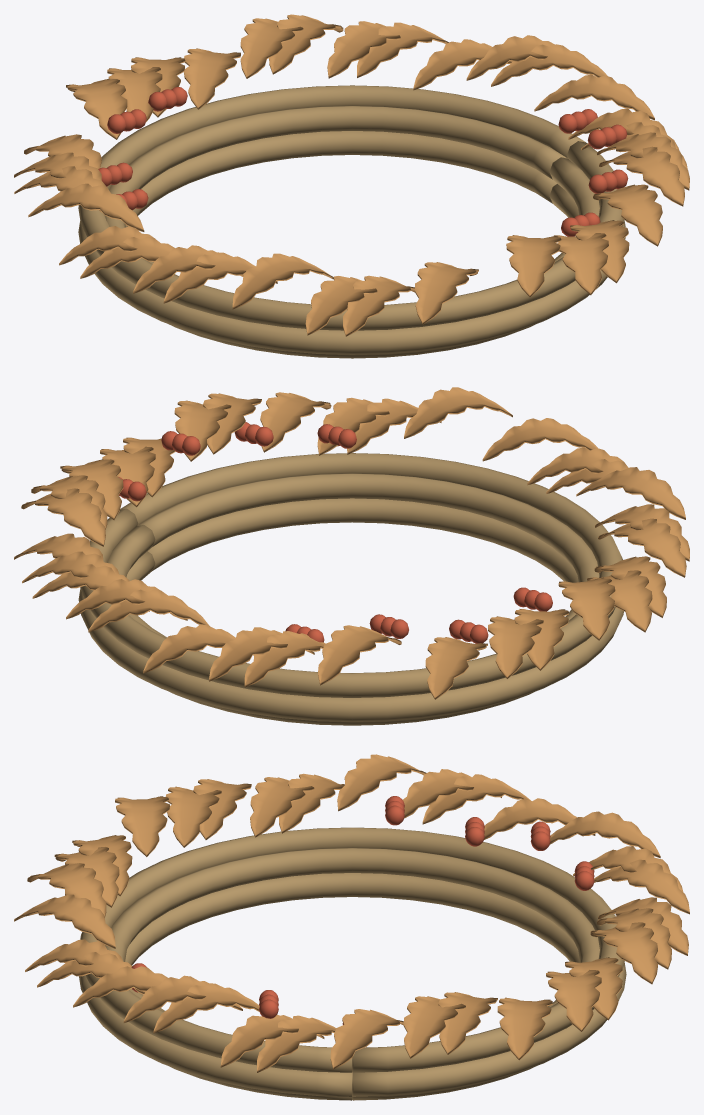
File: autumn_wreath.glb
3 views of the same model, one above another, from view 1: azimuth 30°, elevation 25°; view 2: azimuth 150°, elevation 25°; view 3: azimuth 270°, elevation 25° (orthographic).
Parts seen in each view (by area): view 1: autumn_wreath__body, autumn_wreath__foliage, autumn_wreath__berries; view 2: autumn_wreath__body, autumn_wreath__foliage, autumn_wreath__berries; view 3: autumn_wreath__body, autumn_wreath__foliage, autumn_wreath__berries.
Boxes of the visible parts, left/top/right/bottom form: autumn_wreath__body: left=78, top=85, right=625, bottom=358; autumn_wreath__foliage: left=14, top=14, right=689, bottom=336; autumn_wreath__berries: left=98, top=87, right=628, bottom=236; autumn_wreath__body: left=78, top=453, right=623, bottom=725; autumn_wreath__foliage: left=14, top=387, right=689, bottom=699; autumn_wreath__berries: left=118, top=422, right=552, bottom=643; autumn_wreath__body: left=79, top=827, right=626, bottom=1100; autumn_wreath__foliage: left=14, top=754, right=689, bottom=1072; autumn_wreath__berries: left=131, top=796, right=594, bottom=1024.
Bounding box in the file's own units: 0.4077 × 0.0739 × 0.4071.
